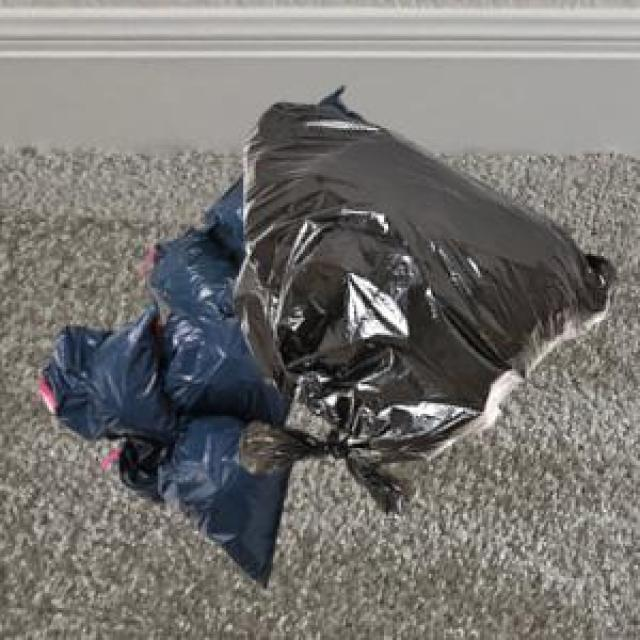Vinyl: (40, 89, 614, 581)
